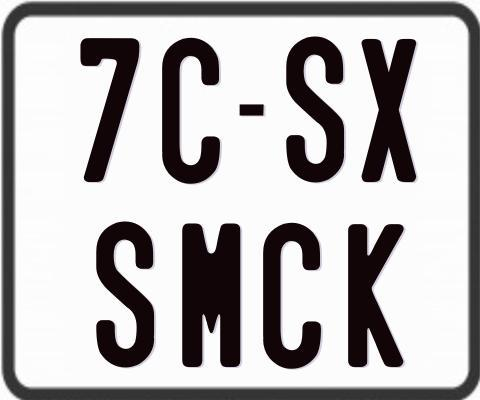7: (79, 38, 139, 185)
C: (160, 36, 223, 185), (263, 221, 323, 368)
K: (348, 224, 405, 372)
M: (179, 222, 242, 372)
S: (286, 35, 349, 186), (94, 218, 152, 365)
X: (359, 37, 415, 181)
